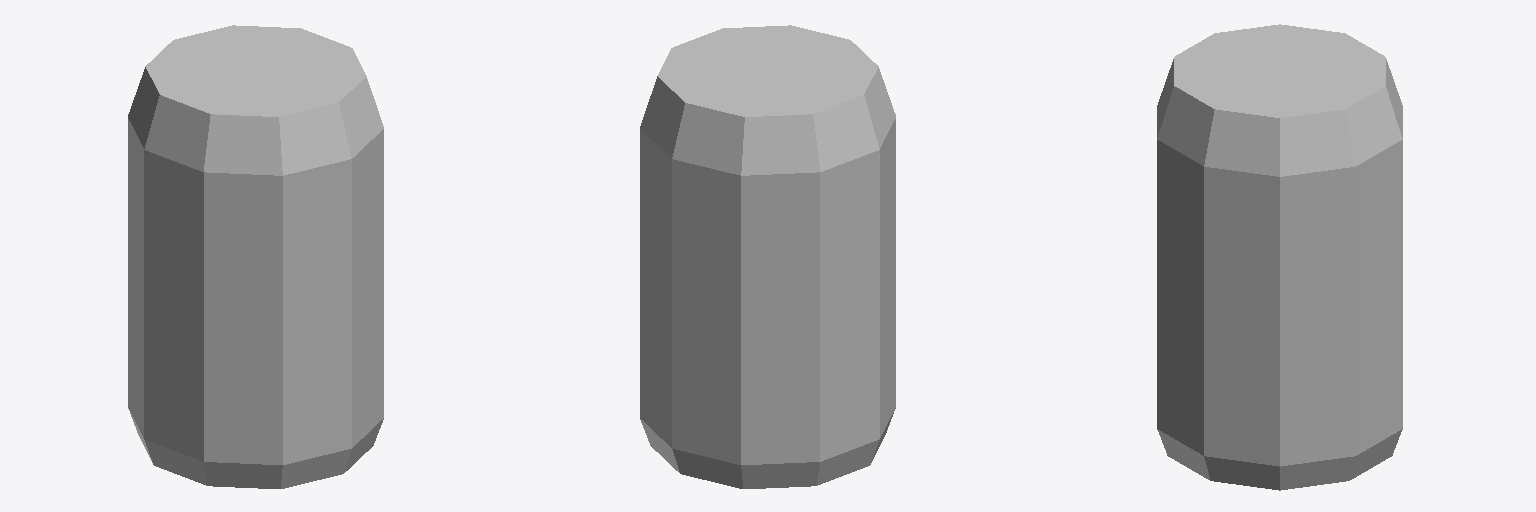
Rendered from can.obj.
3 views of the same model, side by side, from view 1: azimuth 30°, elevation 25°; view 2: azimuth 150°, elevation 25°; view 3: azimuth 270°, elevation 25° (orthographic).
Parts seen in each view (by area): view 1: pCylinder1; view 2: pCylinder1; view 3: pCylinder1.
Part boxes in pixels (x1,y1,x2,y2): pCylinder1: (128, 25, 383, 488); pCylinder1: (640, 25, 895, 488); pCylinder1: (1157, 24, 1402, 490).
Bounding box in the file's own units: 0.76 × 1.2 × 0.7228.